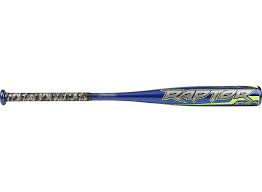bat: (1, 85, 262, 107)
